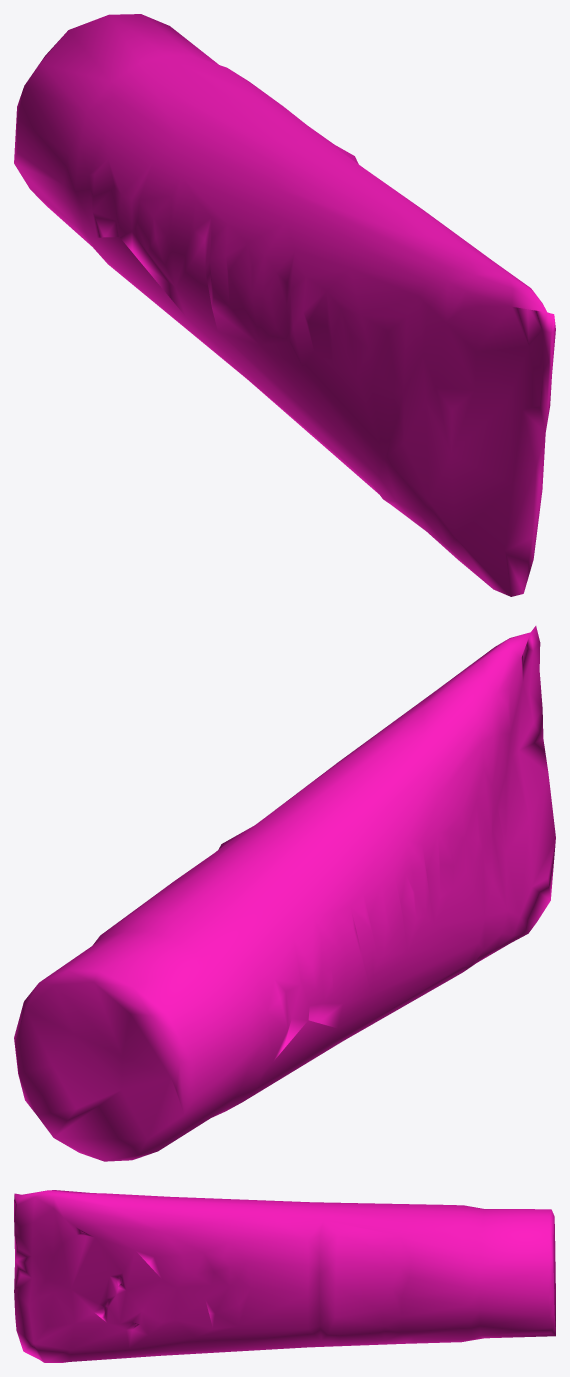
3 renders of one model, top to bottom at view 1: azimuth 30°, elevation 25°; view 2: azimuth 150°, elevation 25°; view 3: azimuth 270°, elevation 25°, orthographic. The views are drawn at different scales.
Parts seen in each view (by area): view 1: Toothpaste_800_tex_019; view 2: Toothpaste_800_tex_019; view 3: Toothpaste_800_tex_019.
Boxes of the visible parts, x1,y1,x2,y2 form: Toothpaste_800_tex_019: (14,14,555,596); Toothpaste_800_tex_019: (14,626,555,1161); Toothpaste_800_tex_019: (14,1190,555,1362).
Size of the model in its own units: 0.0311 by 0.1241 by 0.045.
